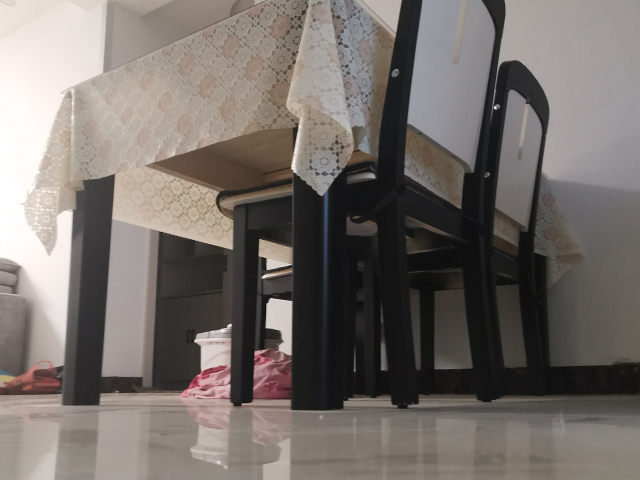cabinet: (146, 229, 228, 394)
stool: (214, 1, 505, 409), (415, 56, 558, 403)
table: (59, 1, 555, 413)
